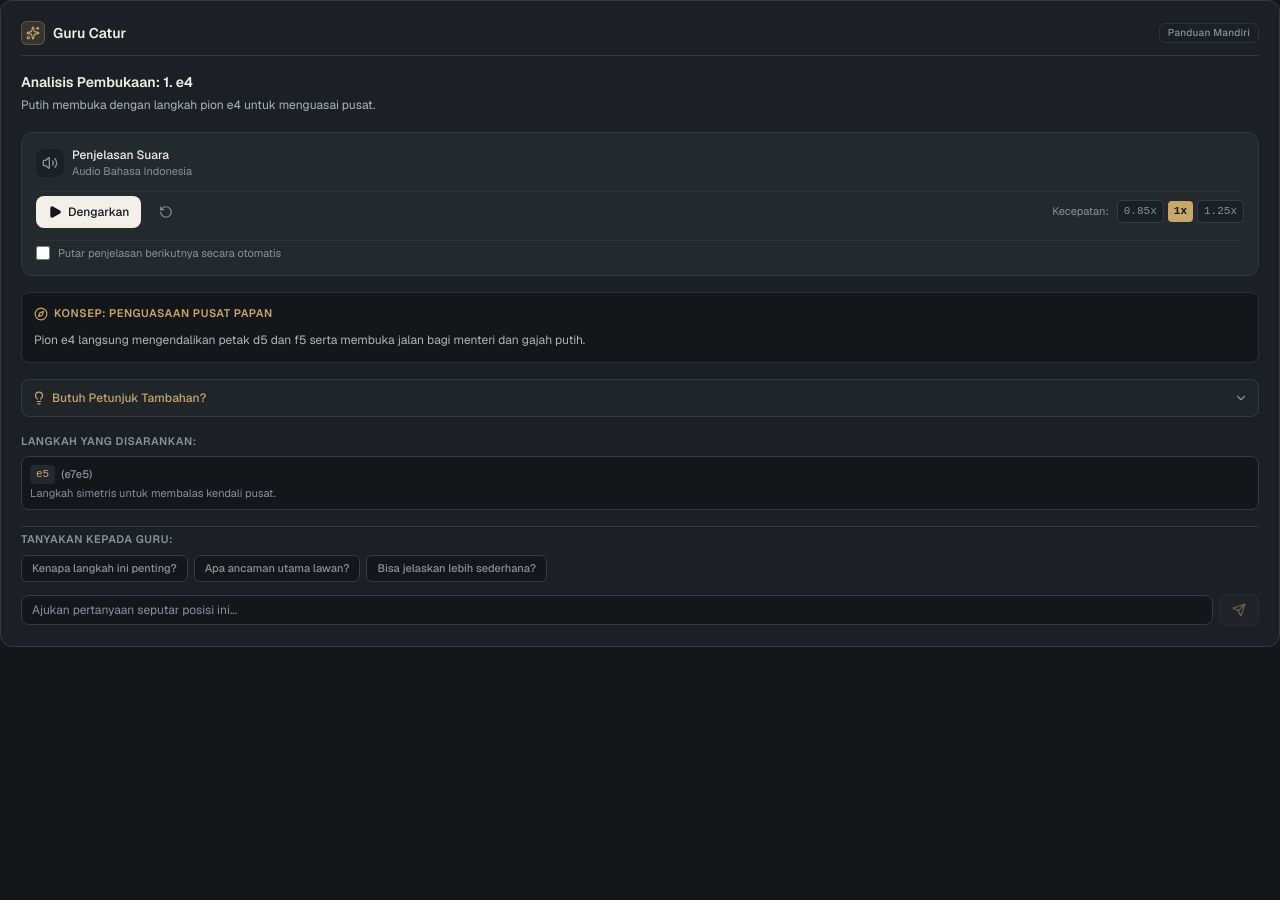
Tutor UI Components › submits custom question from input field and allows returning to overview
The width and height of the screenshot is (1280, 900).
In the field with placeholder "Ajukan pertanyaan seputar posisi ini...": (617, 610) [21, 595, 1213, 625], type "Bagaimana cara kerja kuda?"
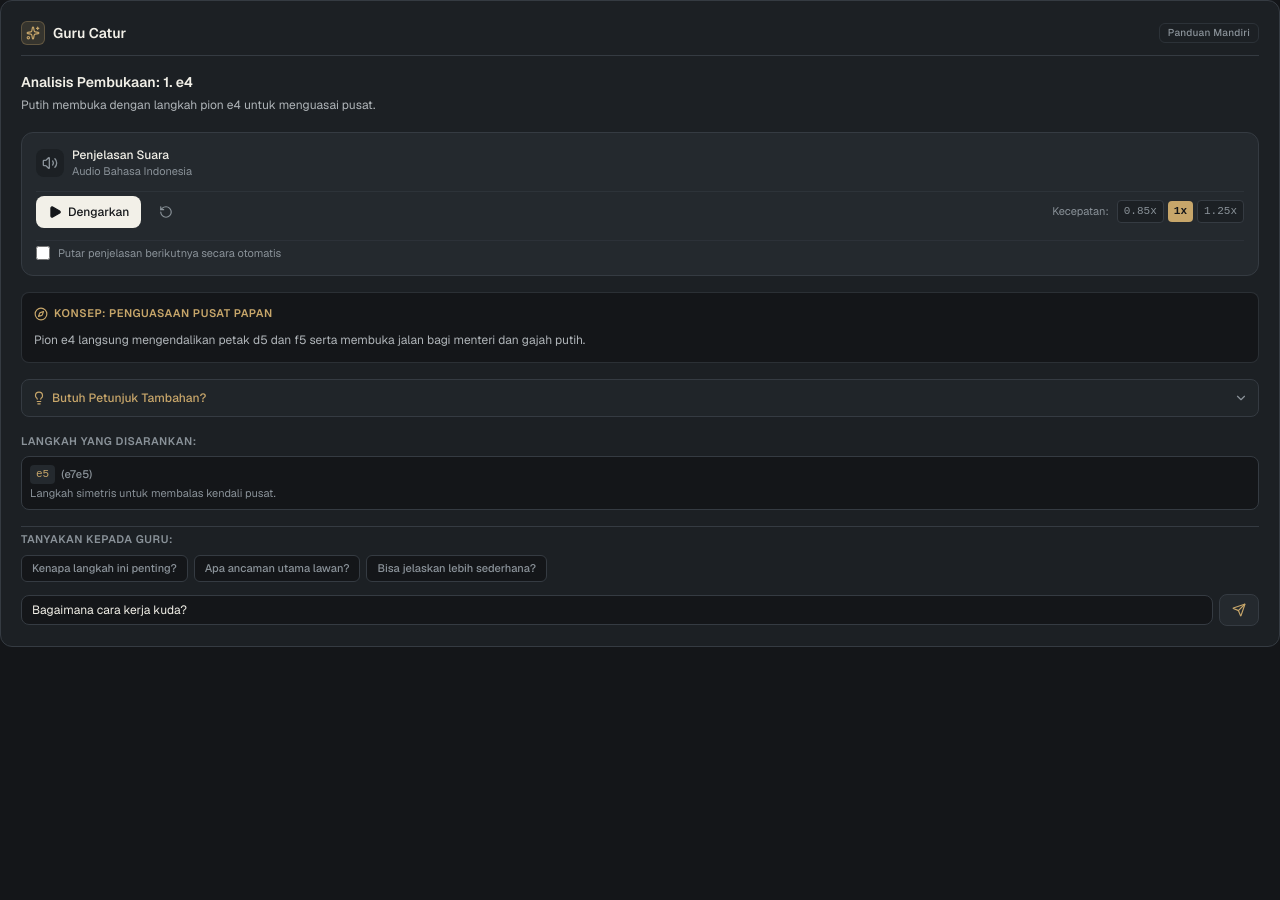
Click the button named "Kirim pertanyaan": (1239, 610) [1219, 594, 1259, 626]
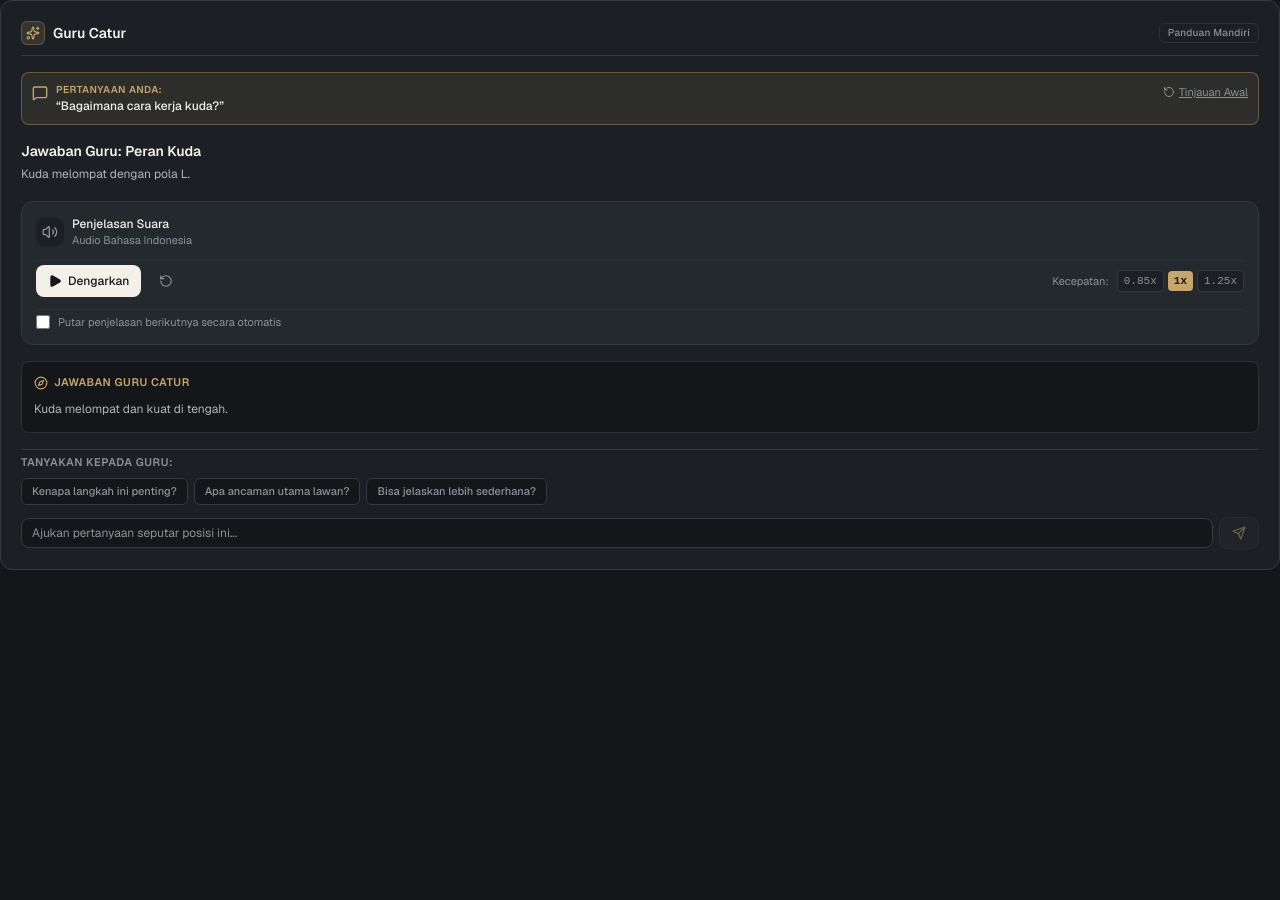
Expected: the text "“Bagaimana cara kerja kuda?”" is shown, [56, 98, 224, 114]
Expected: the heading "Jawaban Guru: Peran Kuda" is shown, [21, 142, 201, 160]
Expected: the button "Tinjauan Awal" is shown
Click the button "Tinjauan Awal": (1205, 91) [1163, 83, 1248, 100]
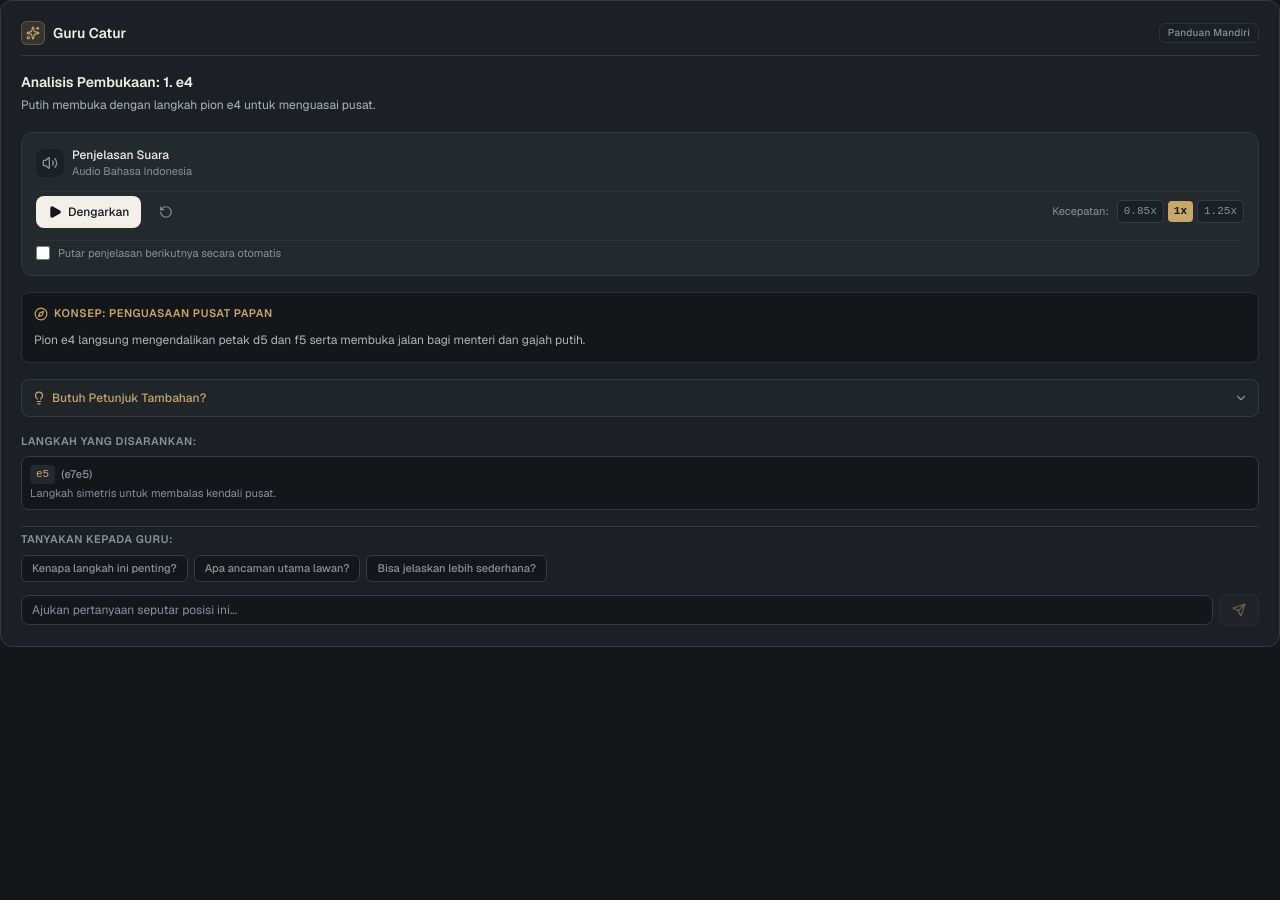
Expected: the heading "Analisis Pembukaan: 1. e4" is shown, [21, 73, 193, 91]
